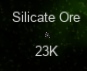Silicate: (10, 9, 81, 59)
